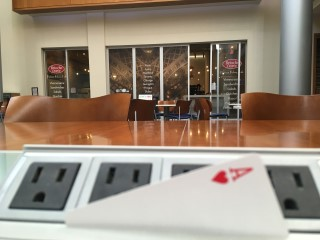AceOfHearts: (63, 152, 288, 235)
